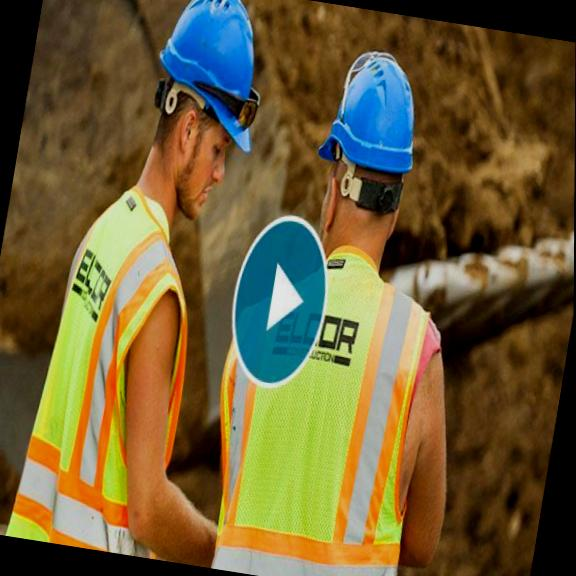safety_vest: (203, 235, 447, 576), (13, 183, 213, 559)
